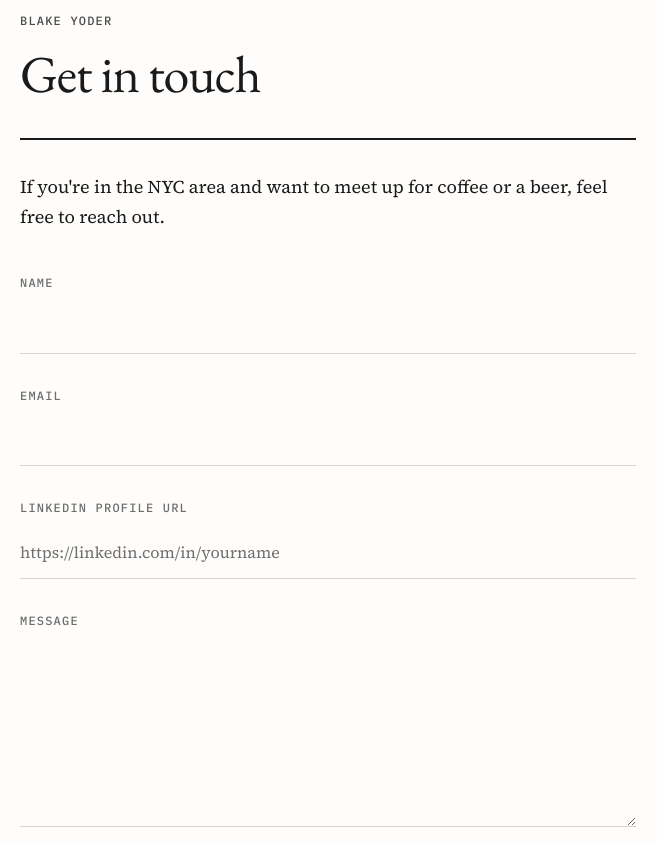
Test: ContactForm › reports that a preview could not be loaded rather than faking one
Type "https://linkedin.com/in/someone" into the field labelled "LinkedIn Profile URL" at (328, 553), box [20, 526, 636, 579]
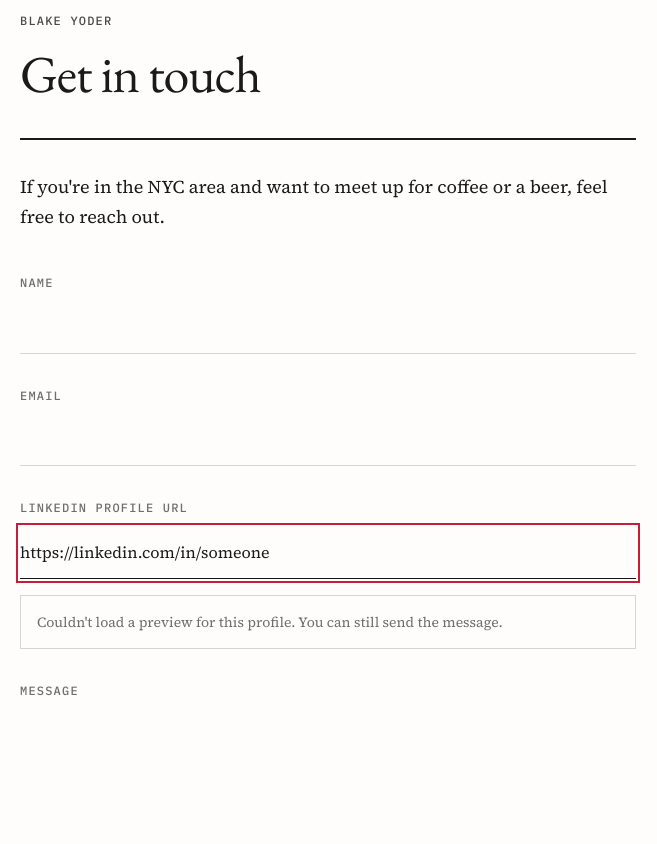
Result: the text "Couldn't load a preview" is shown at [37, 612, 503, 632]
